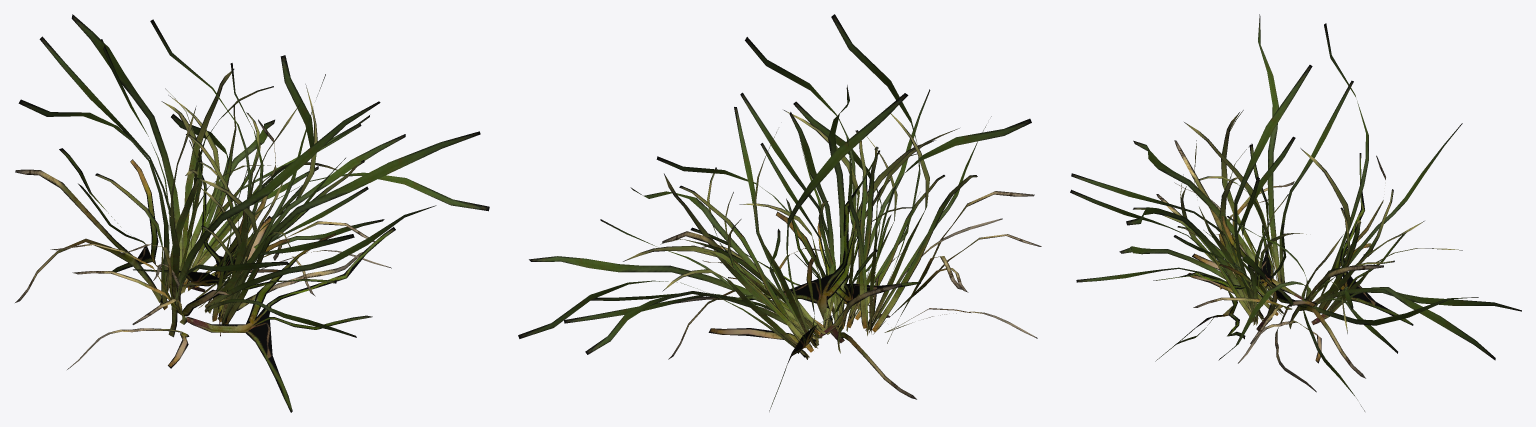
File: grass_medium_01_mid_c_LOD0.glb
3 renders of one model, left to right at view 1: azimuth 30°, elevation 25°; view 2: azimuth 150°, elevation 25°; view 3: azimuth 270°, elevation 25°, orthographic. The views are drawn at different scales.
Parts seen in each view (by area): view 1: grass_medium_01_mid_c_LOD0; view 2: grass_medium_01_mid_c_LOD0; view 3: grass_medium_01_mid_c_LOD0.
Boxes of the visible parts, x1=… form: grass_medium_01_mid_c_LOD0: x1=15, y1=14, x2=489, y2=412; grass_medium_01_mid_c_LOD0: x1=518, y1=14, x2=1041, y2=411; grass_medium_01_mid_c_LOD0: x1=1070, y1=14, x2=1521, y2=411.
Bounding box in the file's own units: 0.1923 × 0.1446 × 0.2029.
Materials: 1 (1 with a texture image).
